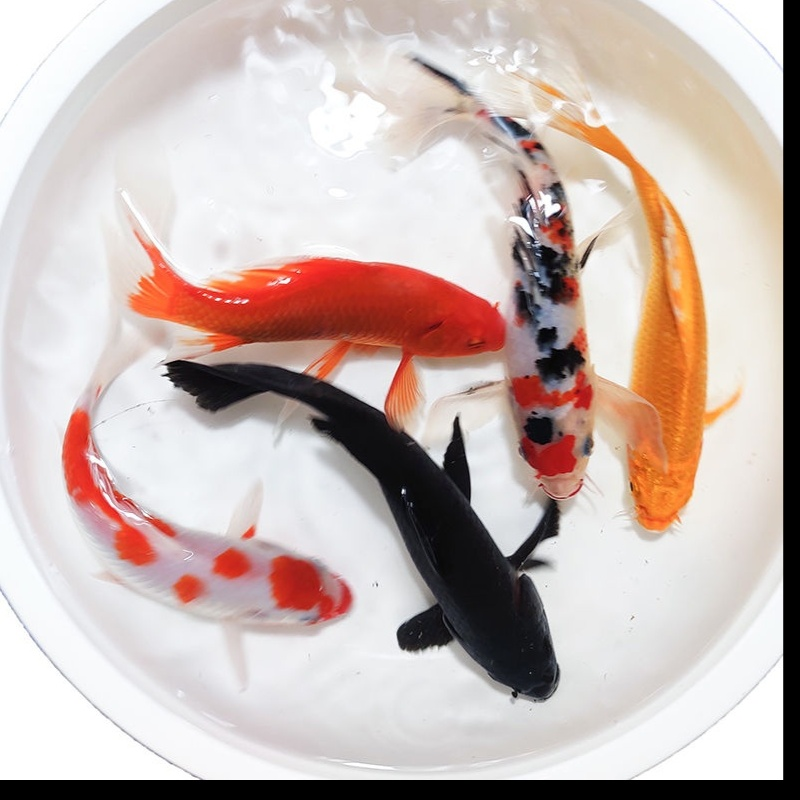fry: (326, 352, 579, 709), (581, 93, 771, 539), (52, 419, 360, 643), (469, 116, 612, 522), (122, 233, 517, 367)
